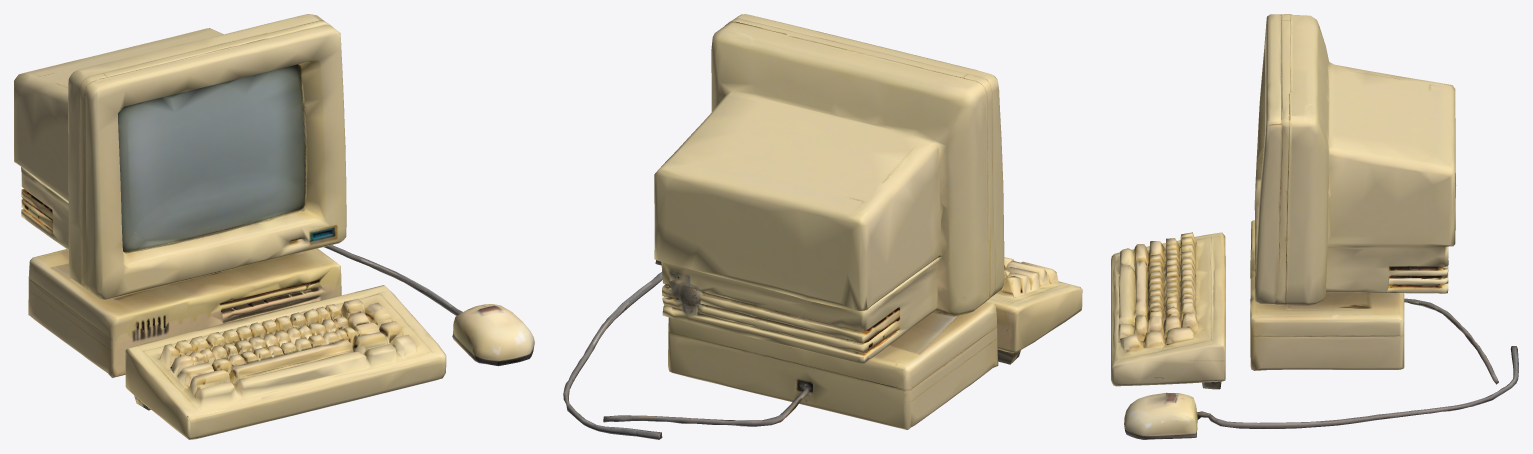
File: computer.glb
3 views of the same model, side by side, from view 1: azimuth 30°, elevation 25°; view 2: azimuth 150°, elevation 25°; view 3: azimuth 270°, elevation 25° (orthographic). The views are drawn at different scales.
Bounding box in the file's own units: 1.88 × 1.46 × 2.
Materials: 1 (1 with a texture image).
